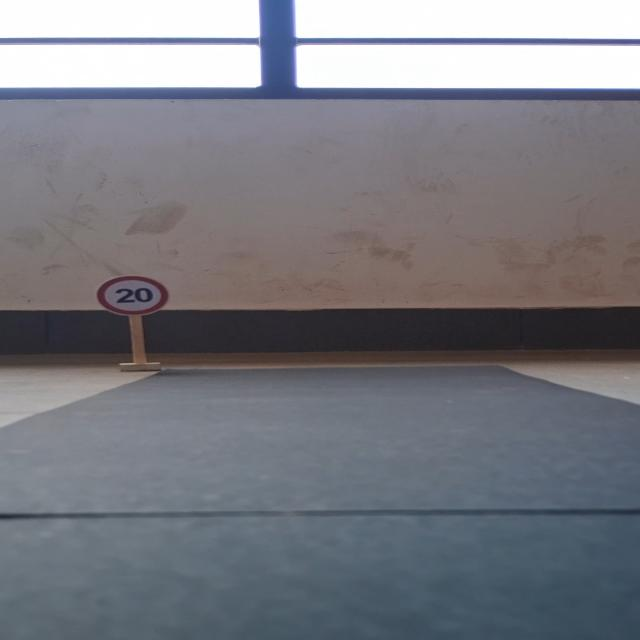Speed20: (85, 272, 174, 321)
